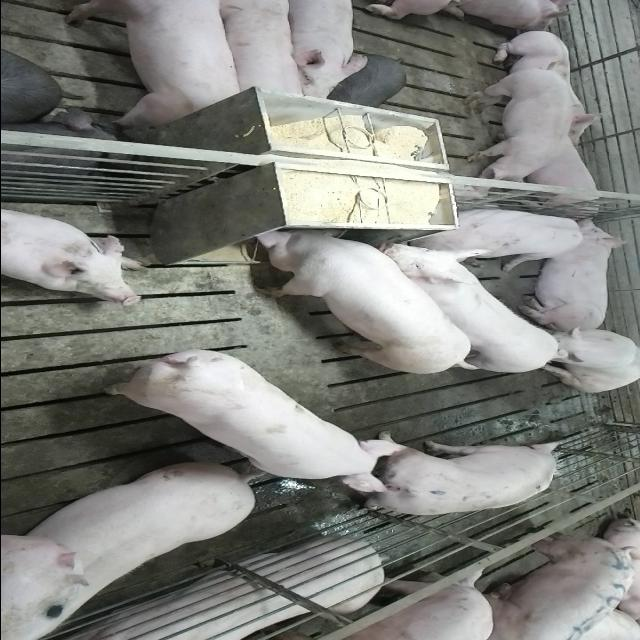Feeding: (248, 218, 476, 370)
Sitting: (529, 324, 639, 393)
Standing: (6, 458, 264, 634), (90, 344, 400, 489), (372, 244, 563, 378), (55, 1, 247, 131), (474, 532, 640, 640), (353, 435, 569, 518), (463, 63, 568, 188), (212, 3, 310, 104), (425, 208, 583, 266), (280, 0, 366, 104)
Sternal_lying: (21, 539, 410, 640), (0, 204, 144, 304), (484, 32, 610, 144), (511, 218, 628, 332), (518, 138, 604, 212)
